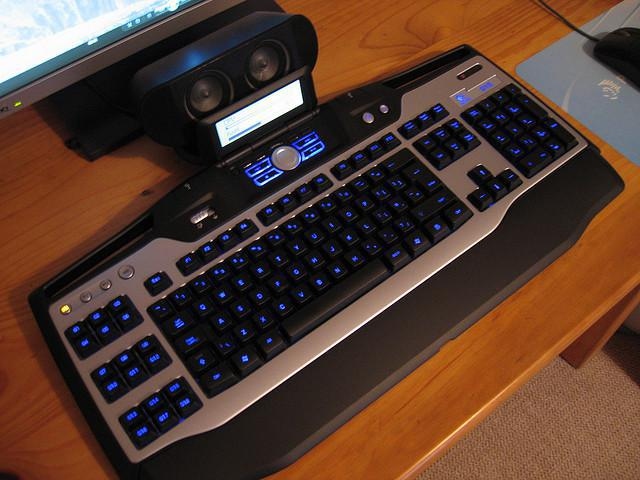tv: (0, 1, 248, 146)
